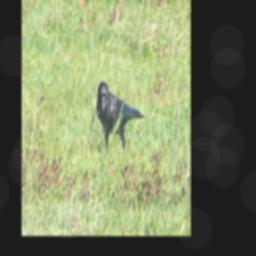Crow: (96, 81, 146, 154)
